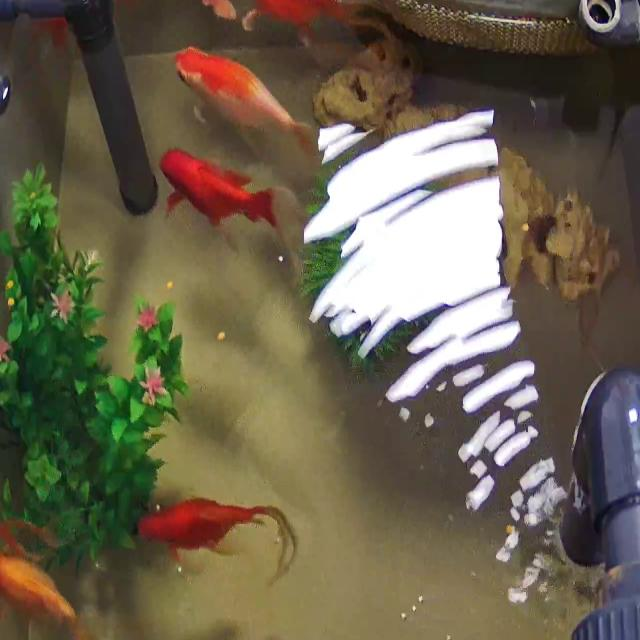fish: (131, 97, 300, 292), (147, 36, 329, 158), (0, 529, 136, 640), (121, 496, 311, 572), (222, 0, 385, 71), (44, 0, 196, 50), (0, 502, 36, 640), (152, 0, 246, 33)
